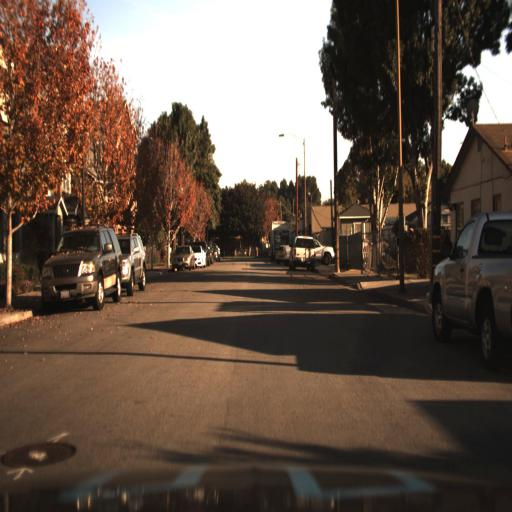car: (427, 209, 511, 359), (38, 218, 123, 321), (114, 224, 147, 297), (119, 227, 151, 302), (291, 232, 319, 275), (169, 239, 196, 271), (314, 236, 335, 264), (272, 237, 286, 270), (194, 241, 207, 274), (191, 241, 205, 268)
